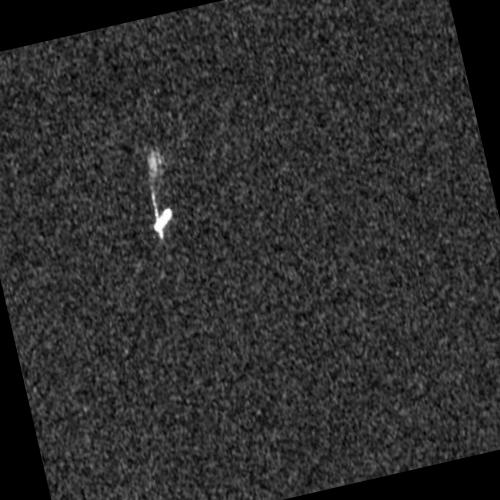ship: (153, 205, 173, 233)
